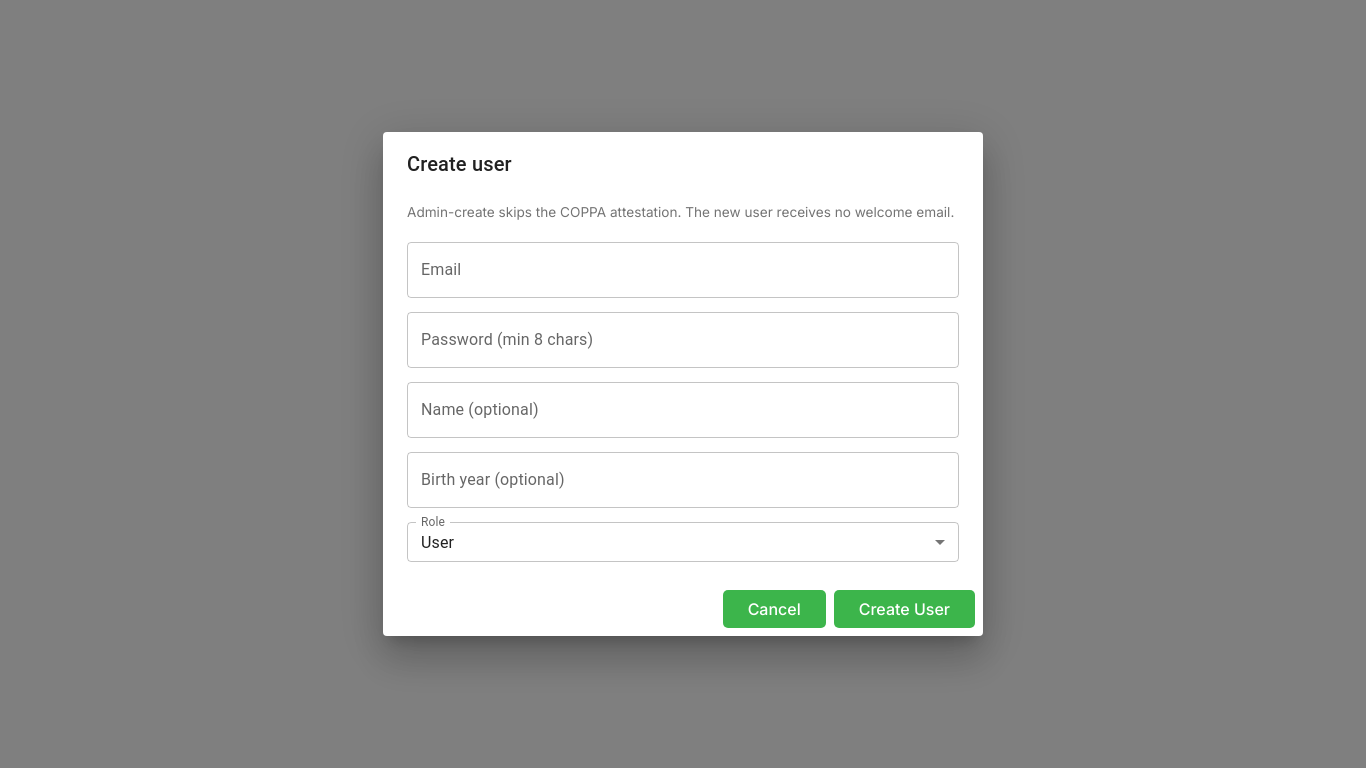
Test: CreateUserModal › rejects a password shorter than 8 characters
The image size is (1366, 768).
In the field labelled "Email": coordinates (683, 270) [407,242,959,298], type "a@b.com"
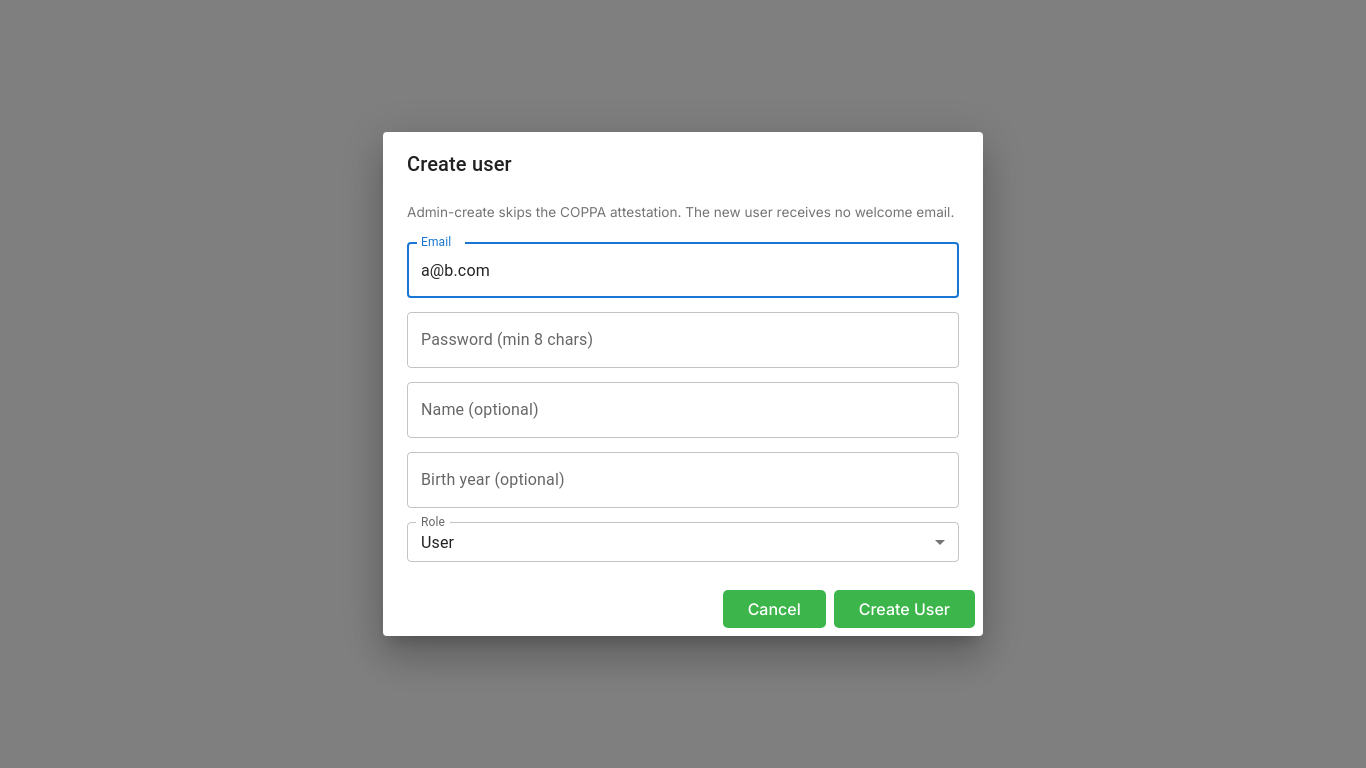
In the password field labelled "Password (min 8 chars)": coordinates (683, 340) [407,312,959,368], type "short"
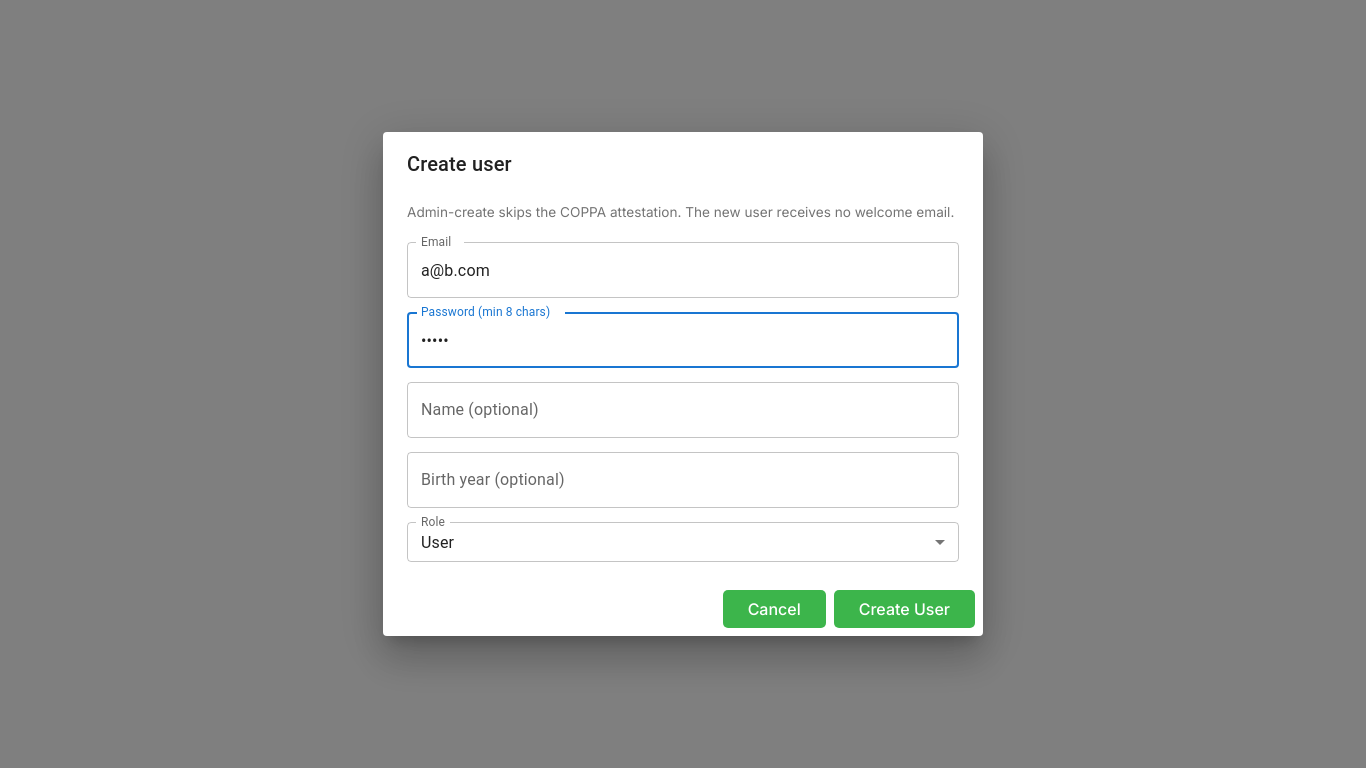
Click the button "Create user": coordinates (904, 609) [834,590,975,628]
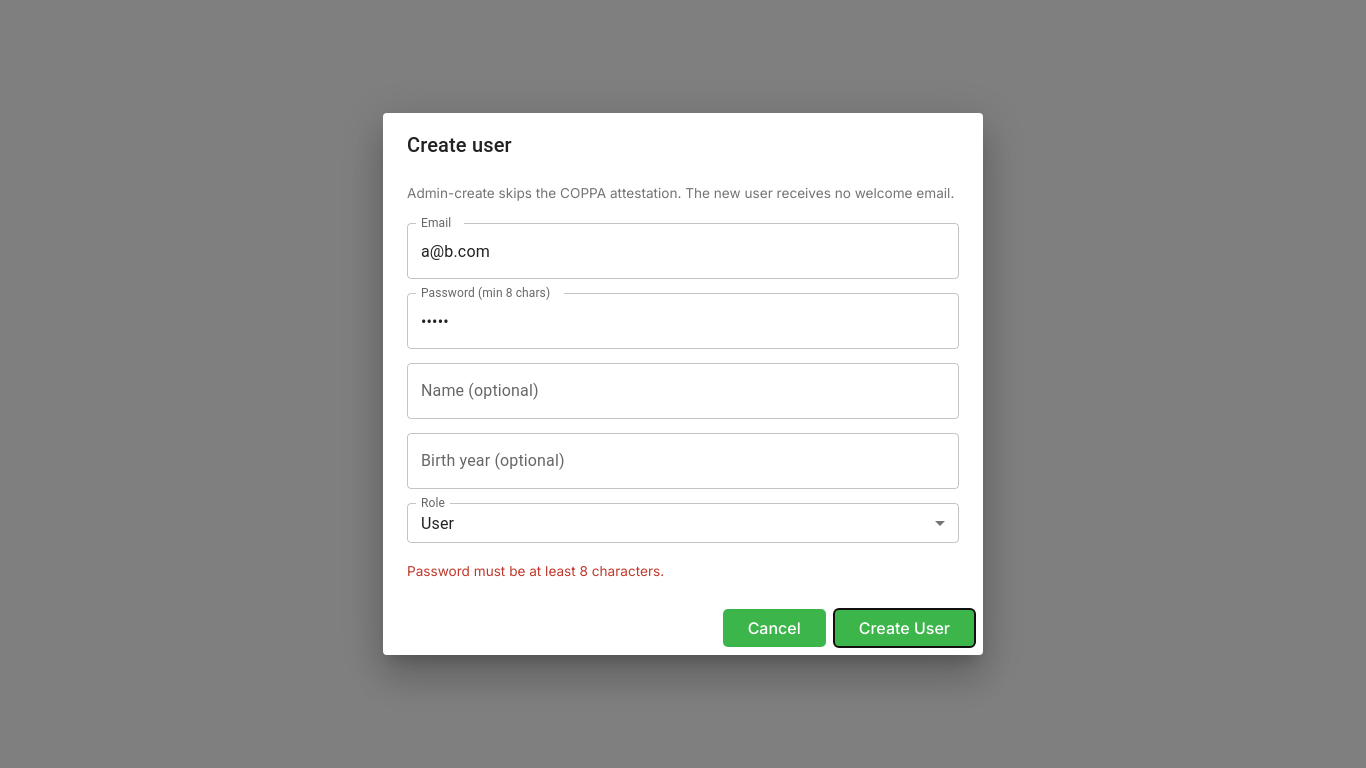
Result: the message reads "Password must be at least 8 characters." at [407,563,664,579]
